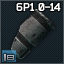AKM 7.62x39 muzzle brake & compensator 6P1 0-14: (0, 0, 64, 64)
